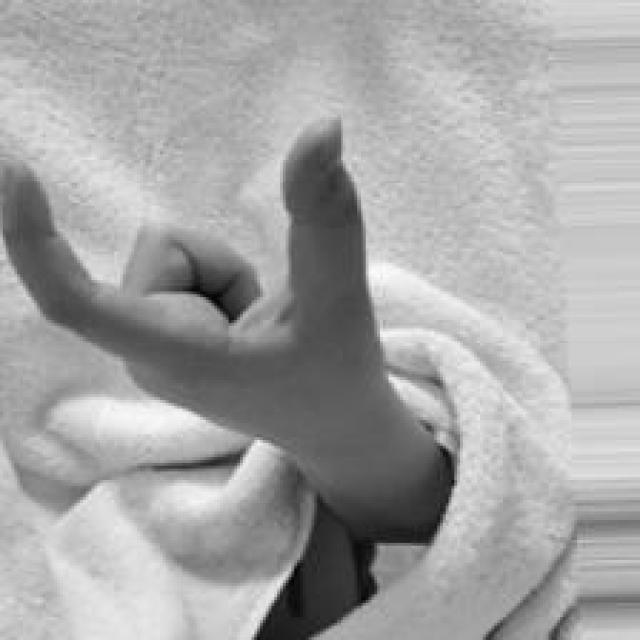U: (0, 111, 444, 531)
